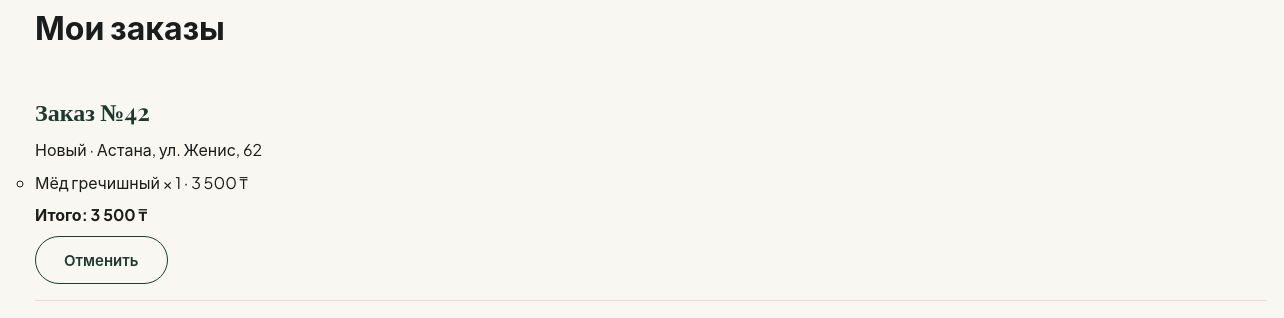
Test case: покупатель отменяет новый заказ и видит обновлённый статус
Click the button "Отменить": (101, 260) [35,236,168,284]
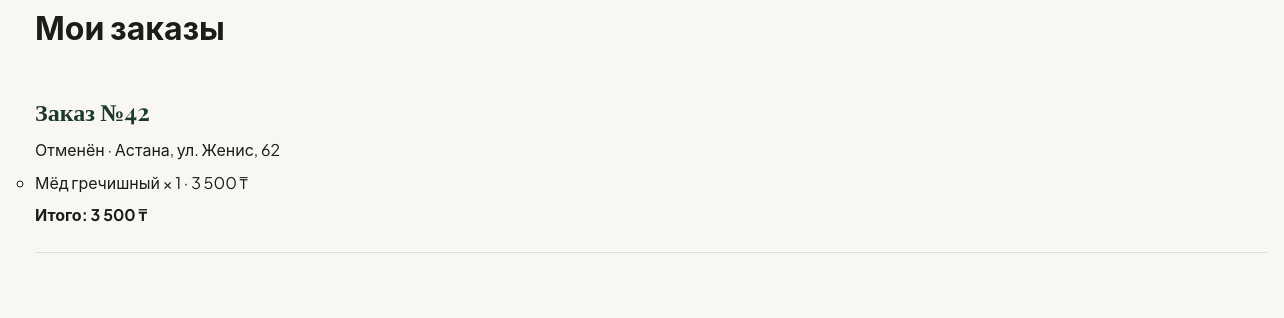
Expected: the text "Отменён · Астана, ул. Женис, 62" is shown, [35,139,280,160]
Expected: the button "Отменить" is gone
